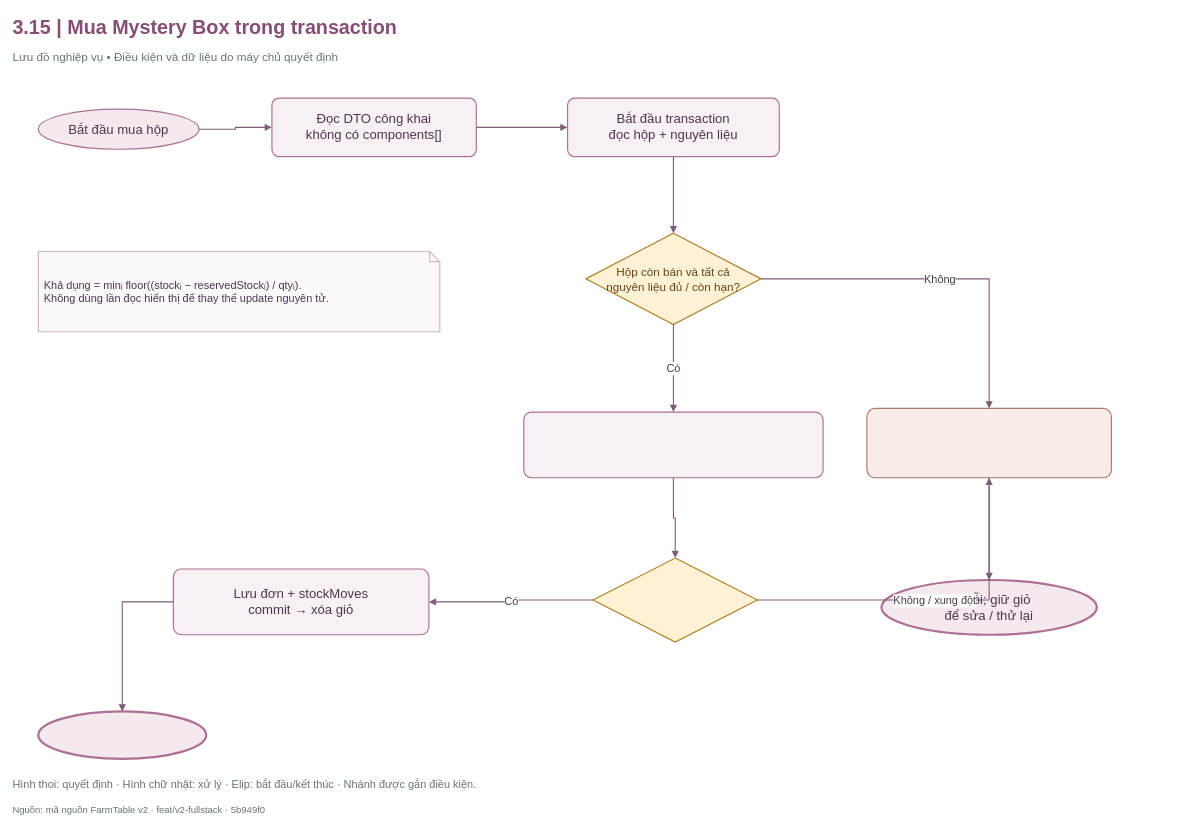
The diagram is 1186 pixels wide and 831 high, and some of its shapes have lost their labels. The box of each missing label's shape, as (x1, y1, x2, y2) in pixels:
Abort toàn bộ transaction không tạo đơn; kho không đổi: (866, 407, 1112, 478)
Tất cả update thành công?: (592, 557, 758, 642)
Từng nguyên liệu: update có điều kiện tồn khả dụng ≥ lượng cần: (523, 411, 823, 478)
Đặt thành công: (37, 710, 207, 760)
